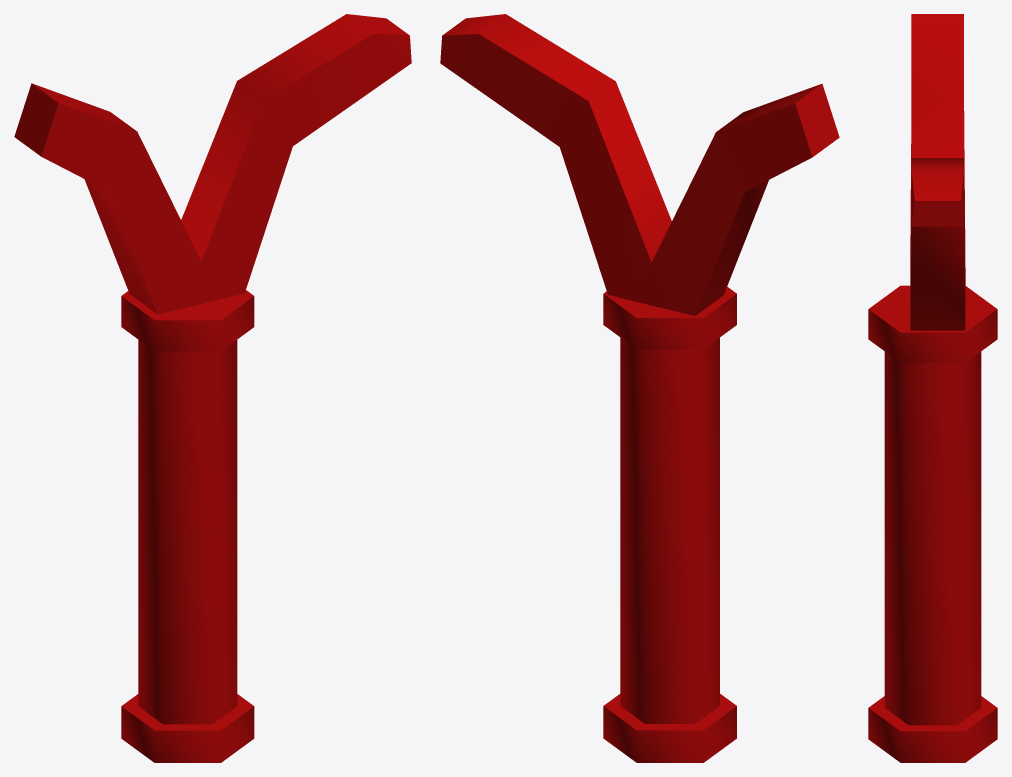
File: s_ruin_pillar_1_lod0.glb
3 renders of one model, left to right at view 1: azimuth 30°, elevation 25°; view 2: azimuth 150°, elevation 25°; view 3: azimuth 270°, elevation 25°, orthographic. The views are drawn at different scales.
Parts seen in each view (by area): view 1: MODEL_s_ruin_pillar_1_lod0; view 2: MODEL_s_ruin_pillar_1_lod0; view 3: MODEL_s_ruin_pillar_1_lod0.
Part boxes in pixels (x1,y1,x2,y2): MODEL_s_ruin_pillar_1_lod0: [14, 14, 411, 762]; MODEL_s_ruin_pillar_1_lod0: [440, 14, 839, 762]; MODEL_s_ruin_pillar_1_lod0: [868, 14, 997, 762].
Bounding box in the file's own units: 0.6095 × 1.07 × 0.1894.
